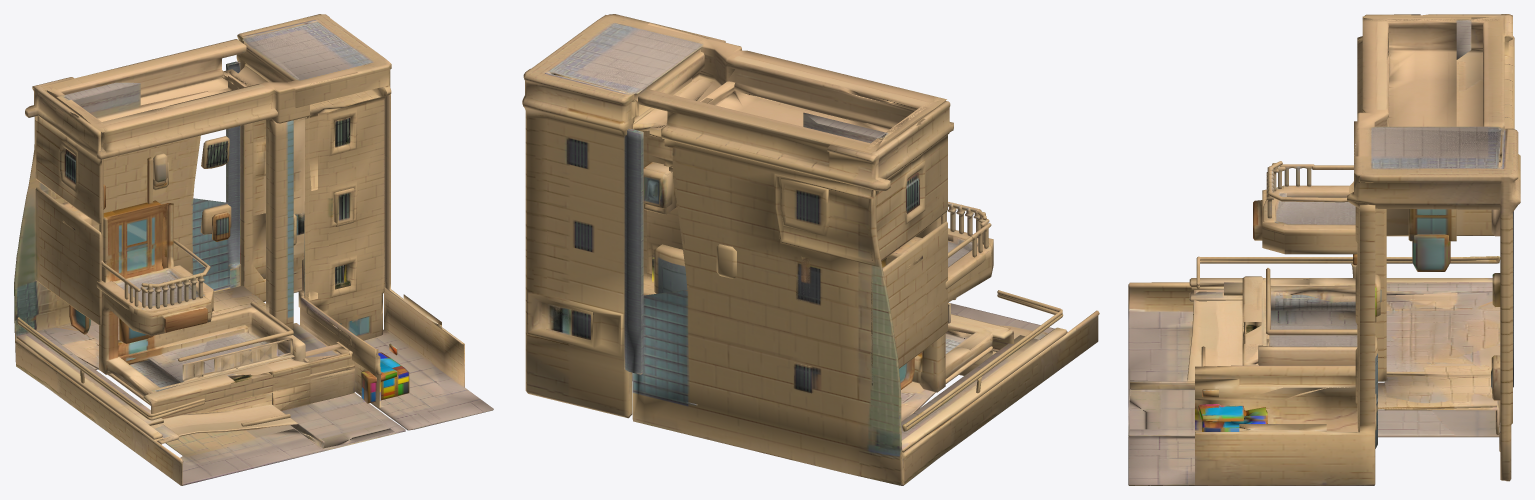
File: bld_556597975.glb
3 views of the same model, side by side, from view 1: azimuth 30°, elevation 25°; view 2: azimuth 150°, elevation 25°; view 3: azimuth 270°, elevation 25° (orthographic). The views are drawn at different scales.
Bounding box in the file's own units: 1.89 × 1.57 × 1.8.
Materials: 1 (1 with a texture image).
